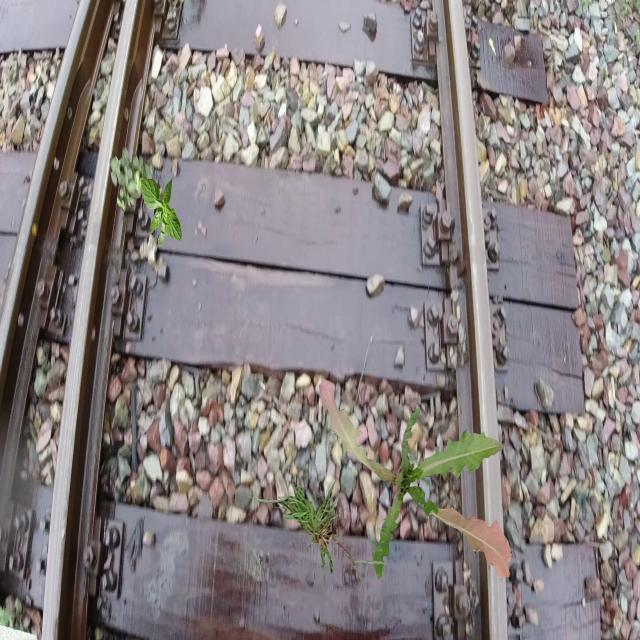Plant: (319, 379, 512, 582), (244, 476, 388, 596), (140, 176, 182, 247), (109, 146, 152, 212)
